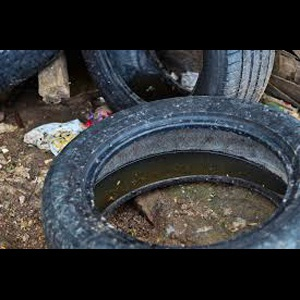tire: (43, 95, 300, 250), (78, 49, 276, 136)
